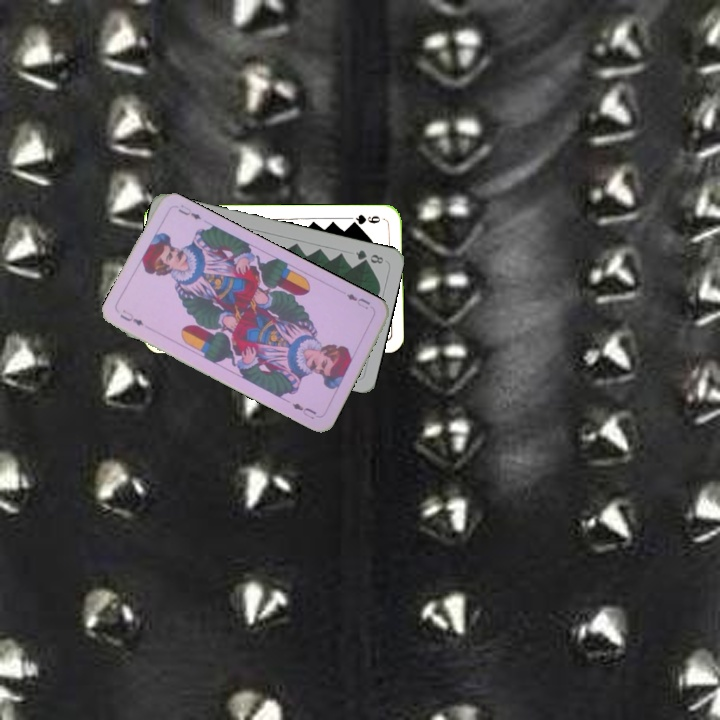EU: (342, 289, 373, 312), (116, 306, 146, 328)
G8: (351, 246, 386, 266)
G9: (347, 211, 383, 227)
